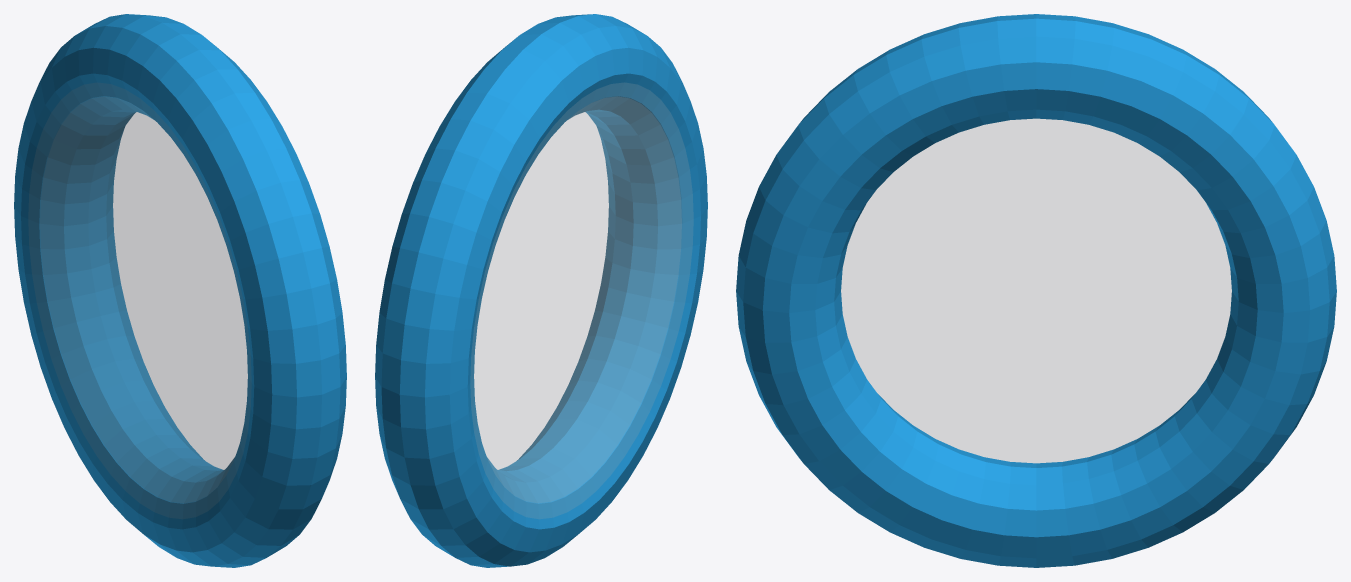
The model's file is circle_ring.fbx.
The picture shows the model from 3 angles, left to right: view 1: azimuth 30°, elevation 25°; view 2: azimuth 150°, elevation 25°; view 3: azimuth 270°, elevation 25°; orthographic projection. The views are drawn at different scales.
Visible parts, largest first — view 1: 回転リング, 円柱; view 2: 回転リング, 円柱; view 3: 回転リング, 円柱.
Part boxes in pixels (x1,y1,x2,y2): 回転リング: (14, 14, 346, 567); 円柱: (29, 83, 250, 518); 回転リング: (375, 14, 707, 567); 円柱: (471, 83, 692, 518); 回転リング: (736, 14, 1336, 567); 円柱: (841, 119, 1231, 462).
Size of the model in its own units: 42.34 by 242 by 242.
